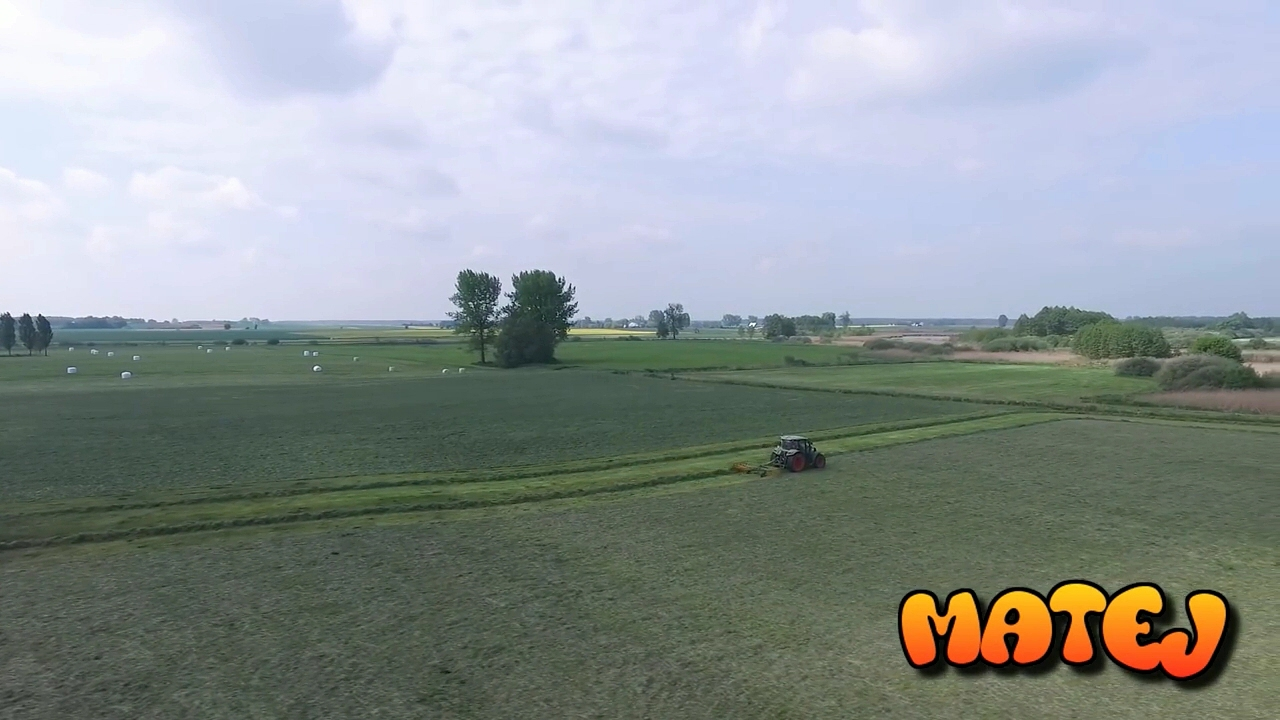traktor: (769, 432, 833, 474)
